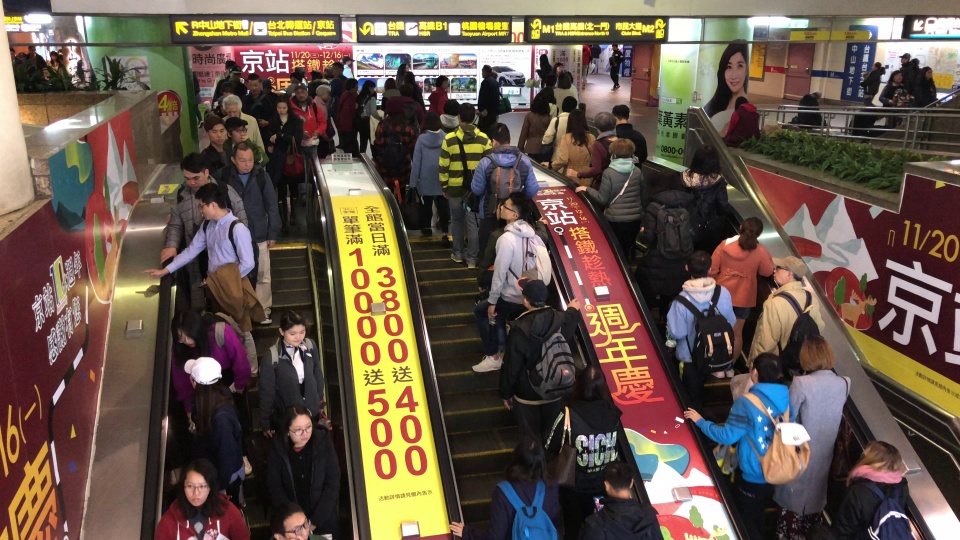person_head: (503, 434, 549, 485), (177, 459, 220, 511), (170, 306, 206, 354), (270, 498, 311, 540), (856, 439, 902, 474), (798, 334, 836, 373), (600, 457, 635, 499), (573, 362, 608, 403), (281, 403, 315, 445), (184, 355, 224, 390), (194, 182, 227, 220), (179, 151, 210, 191), (770, 254, 807, 287), (515, 275, 549, 309), (498, 190, 533, 223), (749, 350, 781, 385), (277, 309, 307, 346), (688, 143, 720, 176), (682, 250, 713, 280), (230, 140, 254, 174), (653, 168, 682, 195), (738, 217, 763, 248), (202, 114, 225, 146), (485, 122, 511, 149), (607, 137, 635, 162), (223, 116, 248, 143), (565, 107, 588, 136), (385, 93, 405, 121), (220, 94, 243, 118), (594, 109, 617, 133), (529, 92, 551, 114), (421, 111, 442, 133), (457, 102, 476, 126), (611, 104, 632, 124), (495, 197, 511, 222), (245, 72, 263, 94), (442, 98, 460, 117), (560, 94, 578, 113), (274, 95, 290, 116), (293, 82, 309, 101), (227, 64, 244, 81), (315, 83, 330, 102), (259, 78, 275, 94), (343, 77, 359, 93), (397, 82, 414, 97), (732, 95, 749, 110), (362, 79, 376, 96), (224, 58, 237, 76), (434, 75, 449, 90), (888, 69, 903, 84), (288, 71, 302, 87), (557, 73, 571, 89), (382, 76, 396, 91), (480, 63, 492, 80), (330, 62, 344, 76), (920, 65, 933, 80), (545, 72, 557, 88), (309, 69, 323, 82), (341, 54, 355, 67), (402, 70, 415, 84), (397, 63, 410, 75), (898, 53, 911, 64), (27, 43, 37, 56), (552, 60, 562, 73), (294, 66, 305, 77), (870, 60, 881, 71), (49, 49, 59, 61), (538, 53, 548, 65), (812, 90, 823, 100), (611, 42, 618, 51)
person_vbox: (141, 181, 266, 391), (684, 350, 811, 523), (769, 333, 852, 540), (470, 190, 553, 372), (168, 306, 253, 476), (544, 359, 624, 538), (164, 151, 248, 308), (500, 273, 581, 435), (664, 247, 737, 406), (705, 216, 774, 378), (459, 123, 540, 259), (744, 255, 826, 389), (257, 309, 332, 444), (227, 142, 282, 324), (267, 403, 340, 540), (183, 355, 245, 510), (478, 197, 548, 334), (574, 135, 645, 268), (824, 439, 914, 540), (632, 165, 697, 304), (438, 101, 492, 268), (156, 457, 251, 540), (487, 432, 559, 540), (576, 461, 661, 540), (262, 95, 306, 235), (568, 110, 639, 192), (677, 142, 730, 249), (372, 94, 418, 205), (410, 112, 450, 237), (540, 106, 597, 188), (289, 82, 327, 204), (221, 93, 267, 170), (537, 95, 578, 176), (518, 92, 555, 163), (222, 115, 270, 169), (611, 103, 648, 173), (198, 114, 235, 182), (353, 79, 382, 158), (878, 69, 915, 130), (720, 95, 761, 148), (398, 82, 425, 162), (335, 79, 359, 153), (240, 74, 273, 127), (210, 63, 247, 108), (476, 64, 499, 131), (796, 90, 832, 131), (329, 59, 349, 126), (911, 65, 940, 110), (859, 60, 886, 107), (310, 84, 332, 138), (213, 60, 236, 109), (398, 70, 426, 110), (524, 54, 552, 90), (552, 73, 576, 115), (897, 51, 922, 90), (427, 74, 449, 116), (438, 98, 461, 133), (608, 41, 624, 91), (379, 77, 401, 112), (307, 69, 331, 100), (25, 43, 47, 74), (45, 51, 67, 82), (539, 73, 557, 101), (581, 43, 591, 91), (341, 54, 356, 79), (551, 61, 563, 87)
